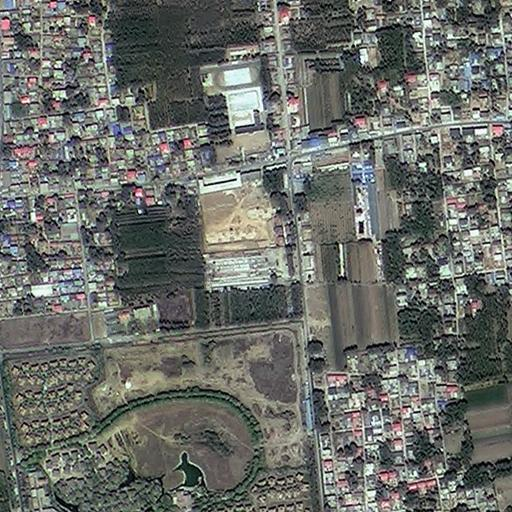school: (195, 50, 275, 168)
